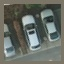car: (21, 16, 38, 49), (42, 11, 59, 41)
